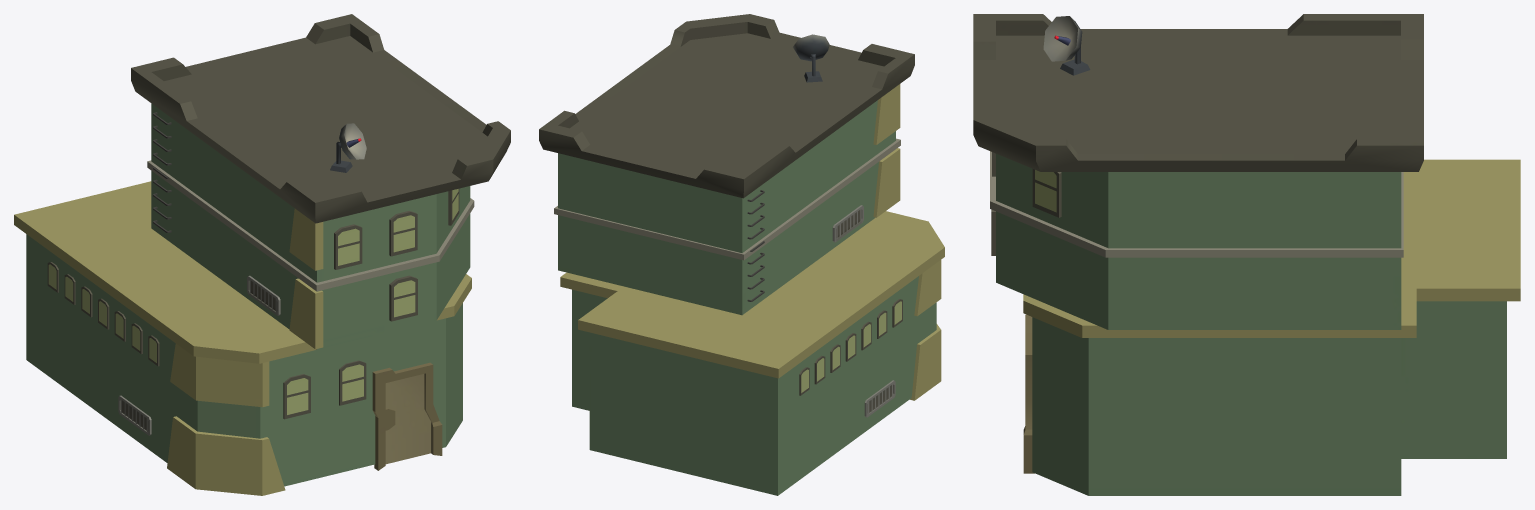
File: SouthWest_House_03.fbx
The picture shows the model from 3 angles, left to right: view 1: azimuth 30°, elevation 25°; view 2: azimuth 150°, elevation 25°; view 3: azimuth 270°, elevation 25°; orthographic projection. The views are drawn at different scales.
Visible parts, largest first — view 1: SouthWest_House_03; view 2: SouthWest_House_03; view 3: SouthWest_House_03.
Boxes of the visible parts, box(x1,y1,x2,y2) form: SouthWest_House_03: box(14, 14, 510, 495); SouthWest_House_03: box(539, 14, 944, 495); SouthWest_House_03: box(973, 14, 1520, 495).
Bounding box in the file's own units: 23.41 × 25.29 × 30.46.
2 materials, 2 textured.
